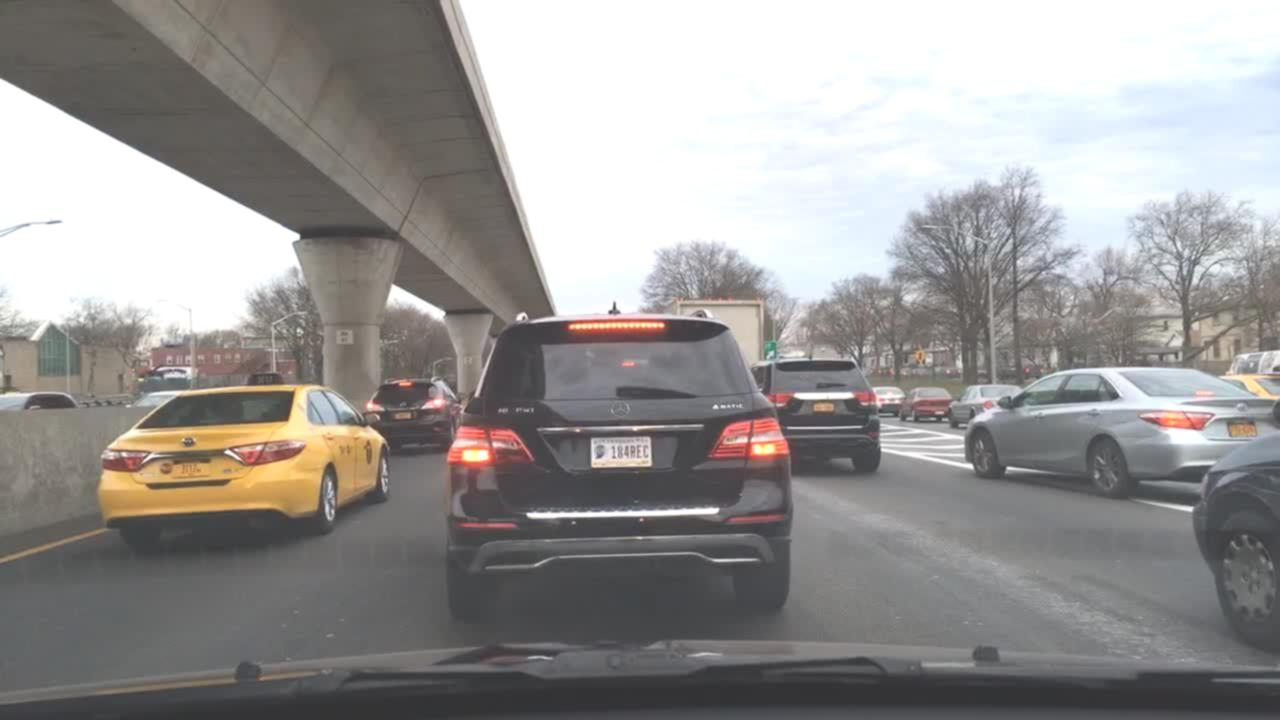Mercedes: (605, 396, 637, 419)
Toyota: (176, 431, 204, 452)
